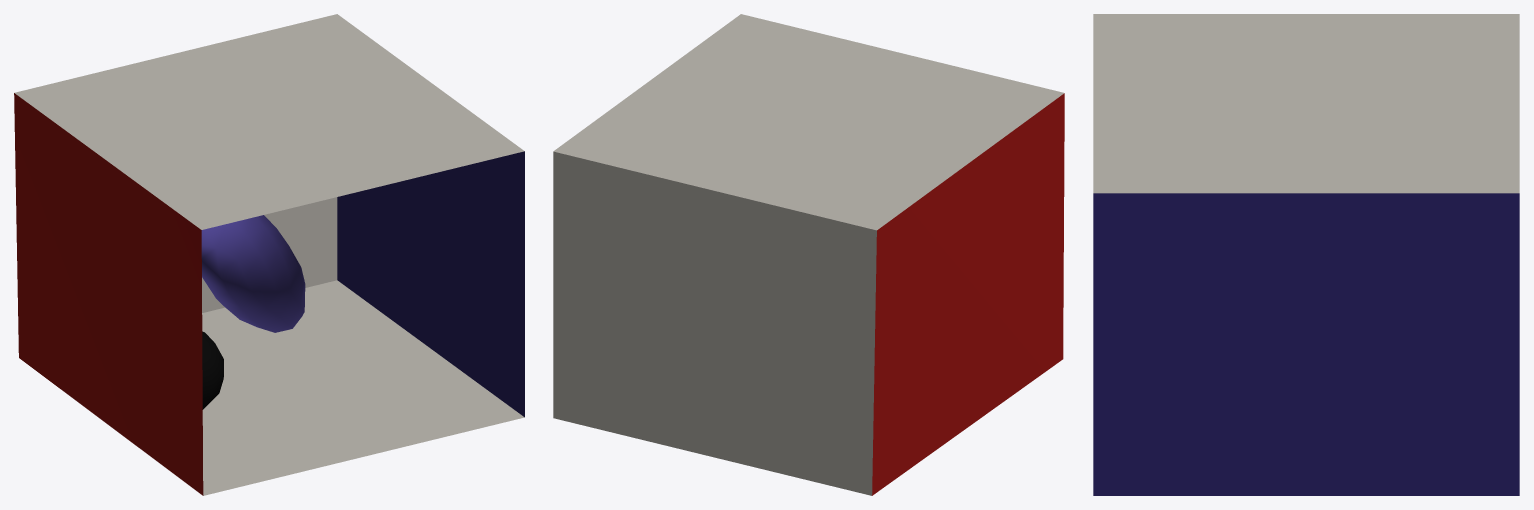
The model's file is CornellBox-Ellipsoid-255.obj.
3 views of the same model, side by side, from view 1: azimuth 30°, elevation 25°; view 2: azimuth 150°, elevation 25°; view 3: azimuth 270°, elevation 25° (orthographic). The views are drawn at different scales.
Parts seen in each view (by area): view 1: ceiling, leftWall, floor, rightWall, leftSphere, backWall, rightSphere; view 2: backWall, ceiling, leftWall; view 3: rightWall, ceiling.
Part boxes in pixels (x1,y1,x2,y2): ceiling: [14, 14, 524, 229]; leftWall: [14, 93, 203, 495]; floor: [202, 280, 524, 495]; rightWall: [337, 151, 524, 417]; leftSphere: [201, 215, 305, 332]; backWall: [202, 197, 337, 312]; rightSphere: [202, 331, 223, 409]; backWall: [553, 151, 876, 495]; ceiling: [553, 14, 1064, 230]; leftWall: [872, 93, 1064, 495]; rightWall: [1093, 193, 1519, 495]; ceiling: [1093, 14, 1519, 193].
Bounding box in the file's own units: 2.02 × 1.59 × 2.03.
